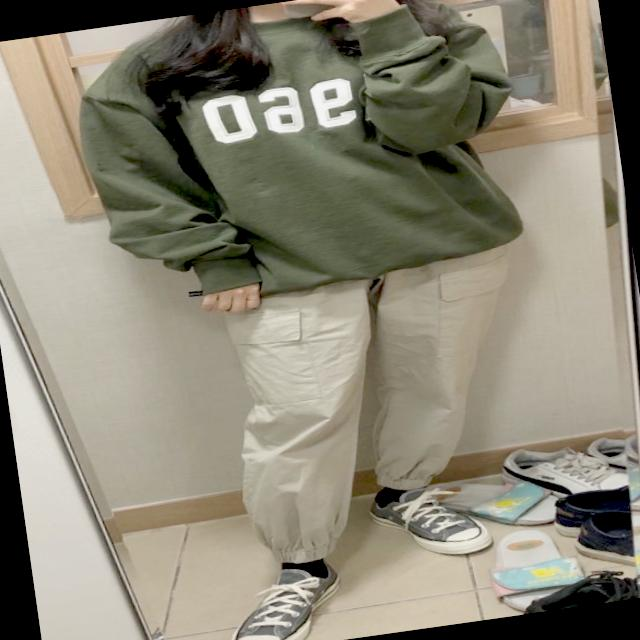cottonpants: (207, 245, 544, 572)
mtm: (67, 0, 539, 319)
